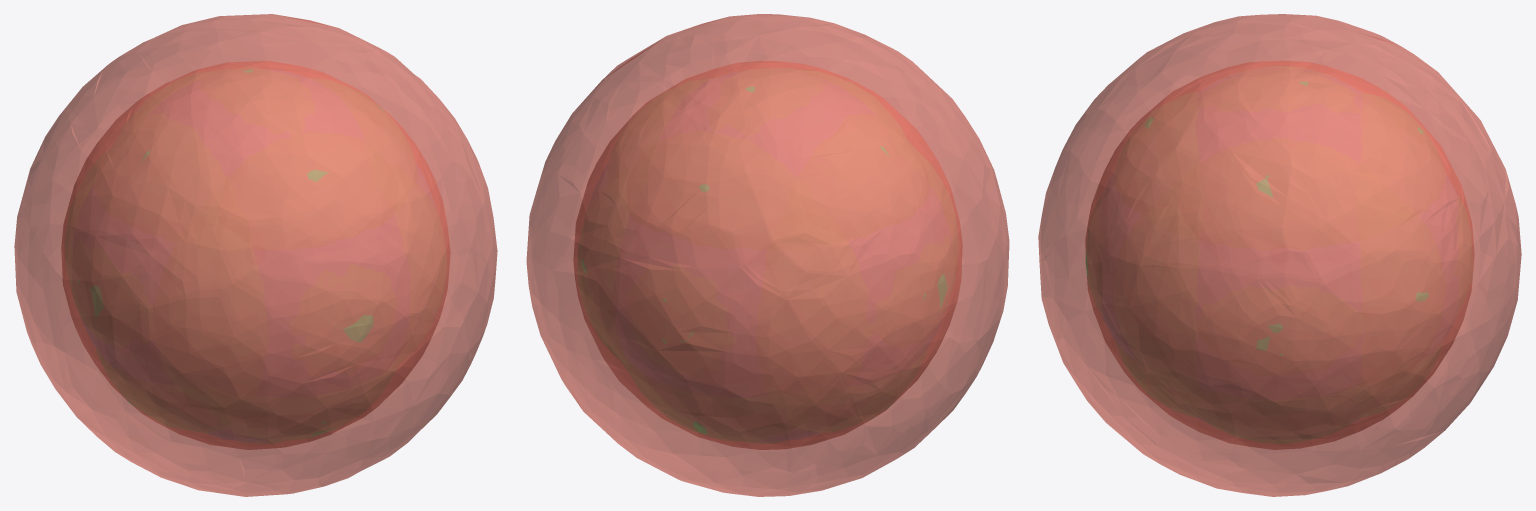
3 views of the same model, side by side, from view 1: azimuth 30°, elevation 25°; view 2: azimuth 150°, elevation 25°; view 3: azimuth 270°, elevation 25° (orthographic).
Parts seen in each view (by area): view 1: Ag_n5_s_ml0_node, Ag_n4_s_ml0_node; view 2: Ag_n5_s_ml0_node, Ag_n4_s_ml0_node; view 3: Ag_n5_s_ml0_node, Ag_n4_s_ml0_node.
Boxes of the visible parts, box(x1,y1,x2,y2) form: Ag_n5_s_ml0_node: box(14, 14, 497, 496); Ag_n4_s_ml0_node: box(61, 61, 450, 449); Ag_n5_s_ml0_node: box(526, 14, 1009, 496); Ag_n4_s_ml0_node: box(573, 61, 962, 449); Ag_n5_s_ml0_node: box(1038, 14, 1521, 496); Ag_n4_s_ml0_node: box(1085, 61, 1474, 449).
Size of the model in its own units: 2.56 by 2.56 by 2.56.
